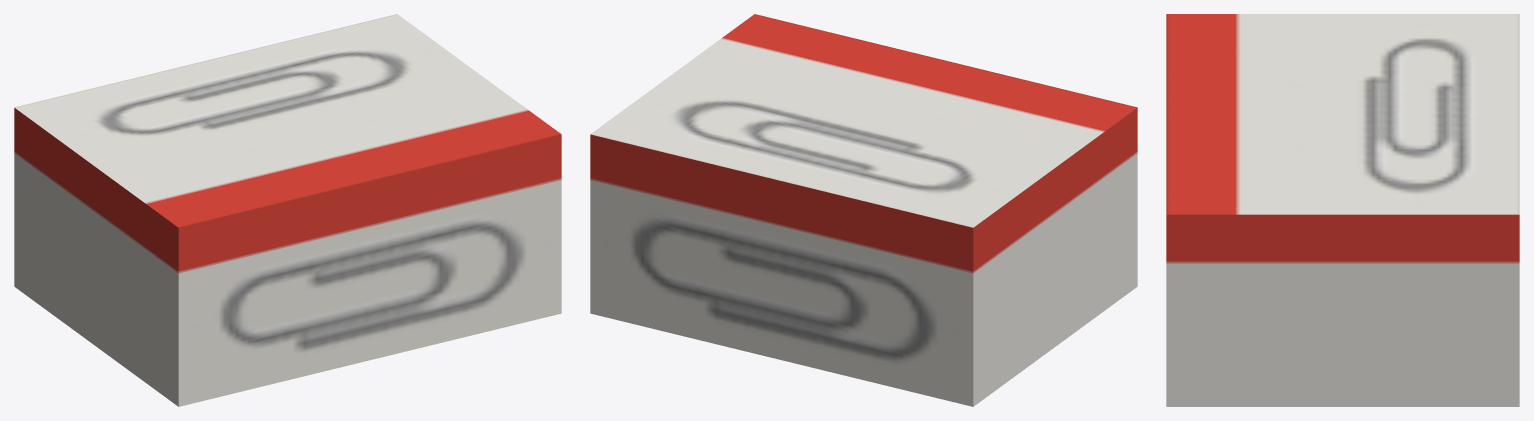
Rendered from PaperclipBoxV2.fbx.
3 renders of one model, left to right at view 1: azimuth 30°, elevation 25°; view 2: azimuth 150°, elevation 25°; view 3: azimuth 270°, elevation 25°, orthographic. The views are drawn at different scales.
Visible parts, largest first — view 1: PaperclipBoxV2; view 2: PaperclipBoxV2; view 3: PaperclipBoxV2.
Part boxes in pixels (left/top/right/bottom): PaperclipBoxV2: left=14, top=14, right=561, bottom=406; PaperclipBoxV2: left=590, top=14, right=1137, bottom=406; PaperclipBoxV2: left=1166, top=14, right=1519, bottom=406.
Bounding box in the file's own units: 14.2 × 6.34 × 10.56.
